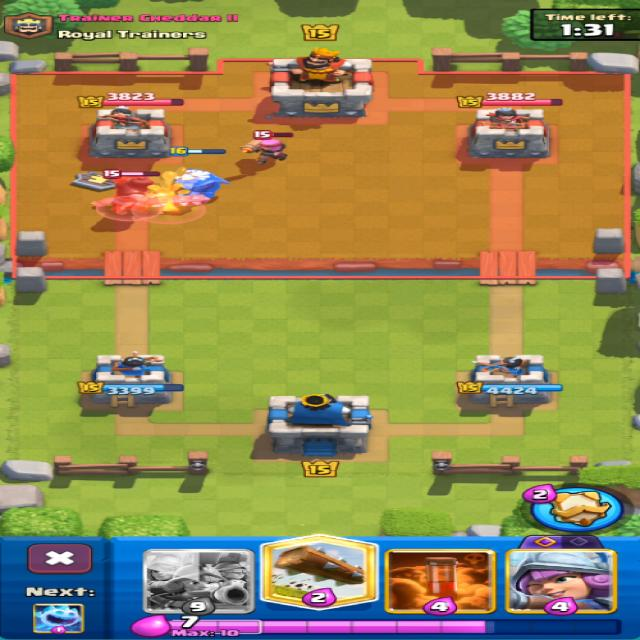Enemy-DarkPrince: (93, 177, 207, 218)
Enemy-Firecracker: (243, 139, 284, 164)
Enemy-KingTower: (269, 47, 372, 116)
Enemy-PrincessTower: (90, 106, 170, 158), (468, 107, 549, 158)
